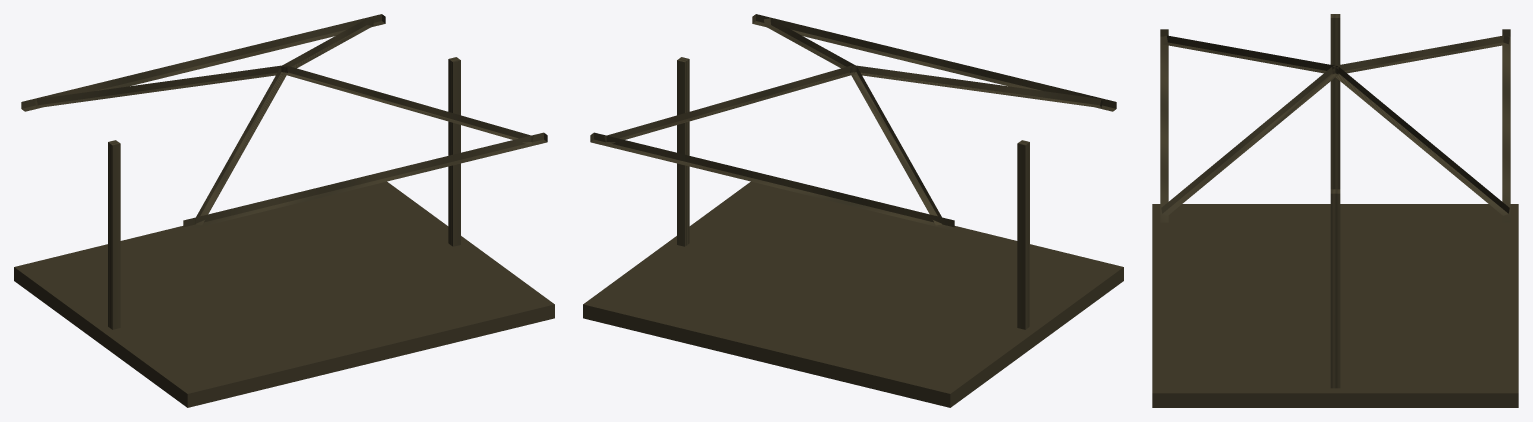
File: prop_tent_command_a.glb
The picture shows the model from 3 angles, left to right: view 1: azimuth 30°, elevation 25°; view 2: azimuth 150°, elevation 25°; view 3: azimuth 270°, elevation 25°; orthographic projection. The views are drawn at different scales.
Parts seen in each view (by area): view 1: prop_tent_command_a; view 2: prop_tent_command_a; view 3: prop_tent_command_a.
Part boxes in pixels (x1,y1,x2,y2): prop_tent_command_a: (14,14,554,407); prop_tent_command_a: (583,14,1123,407); prop_tent_command_a: (1152,14,1518,407).
Size of the model in its own units: 5.5 by 3.39 by 4.5.
1 material, 1 textured.
